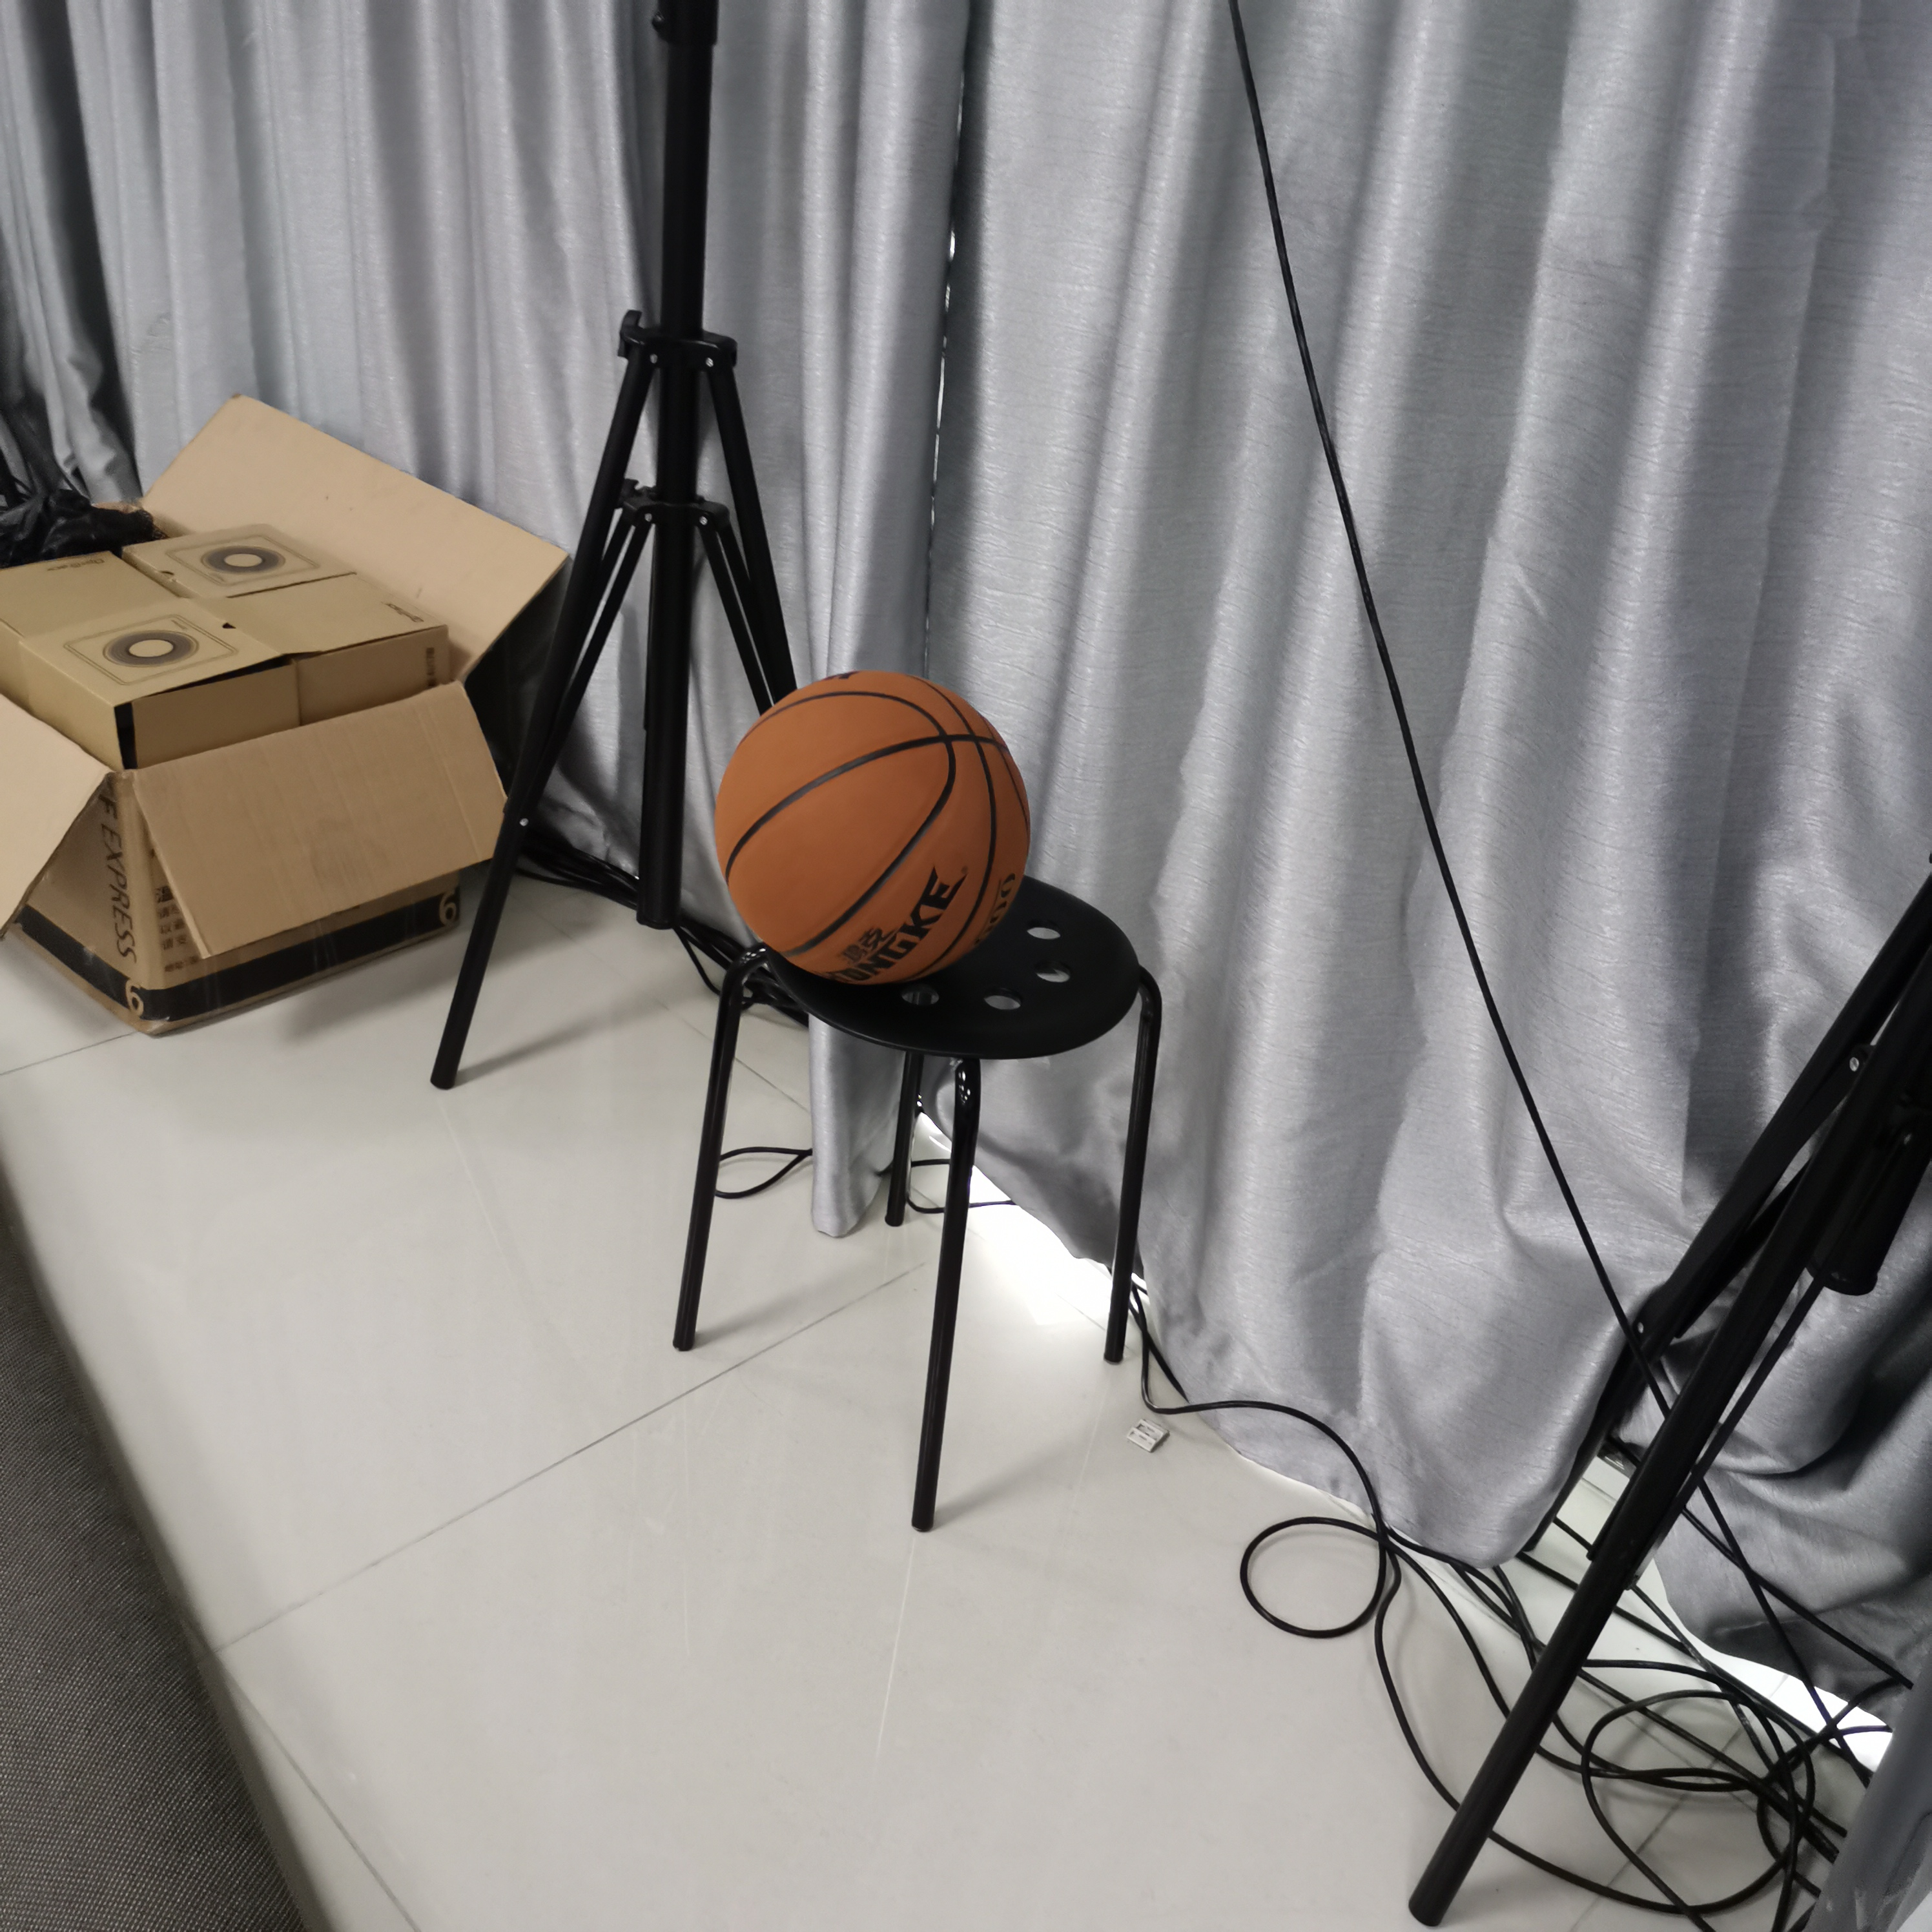basketball: (713, 671, 1028, 987)
